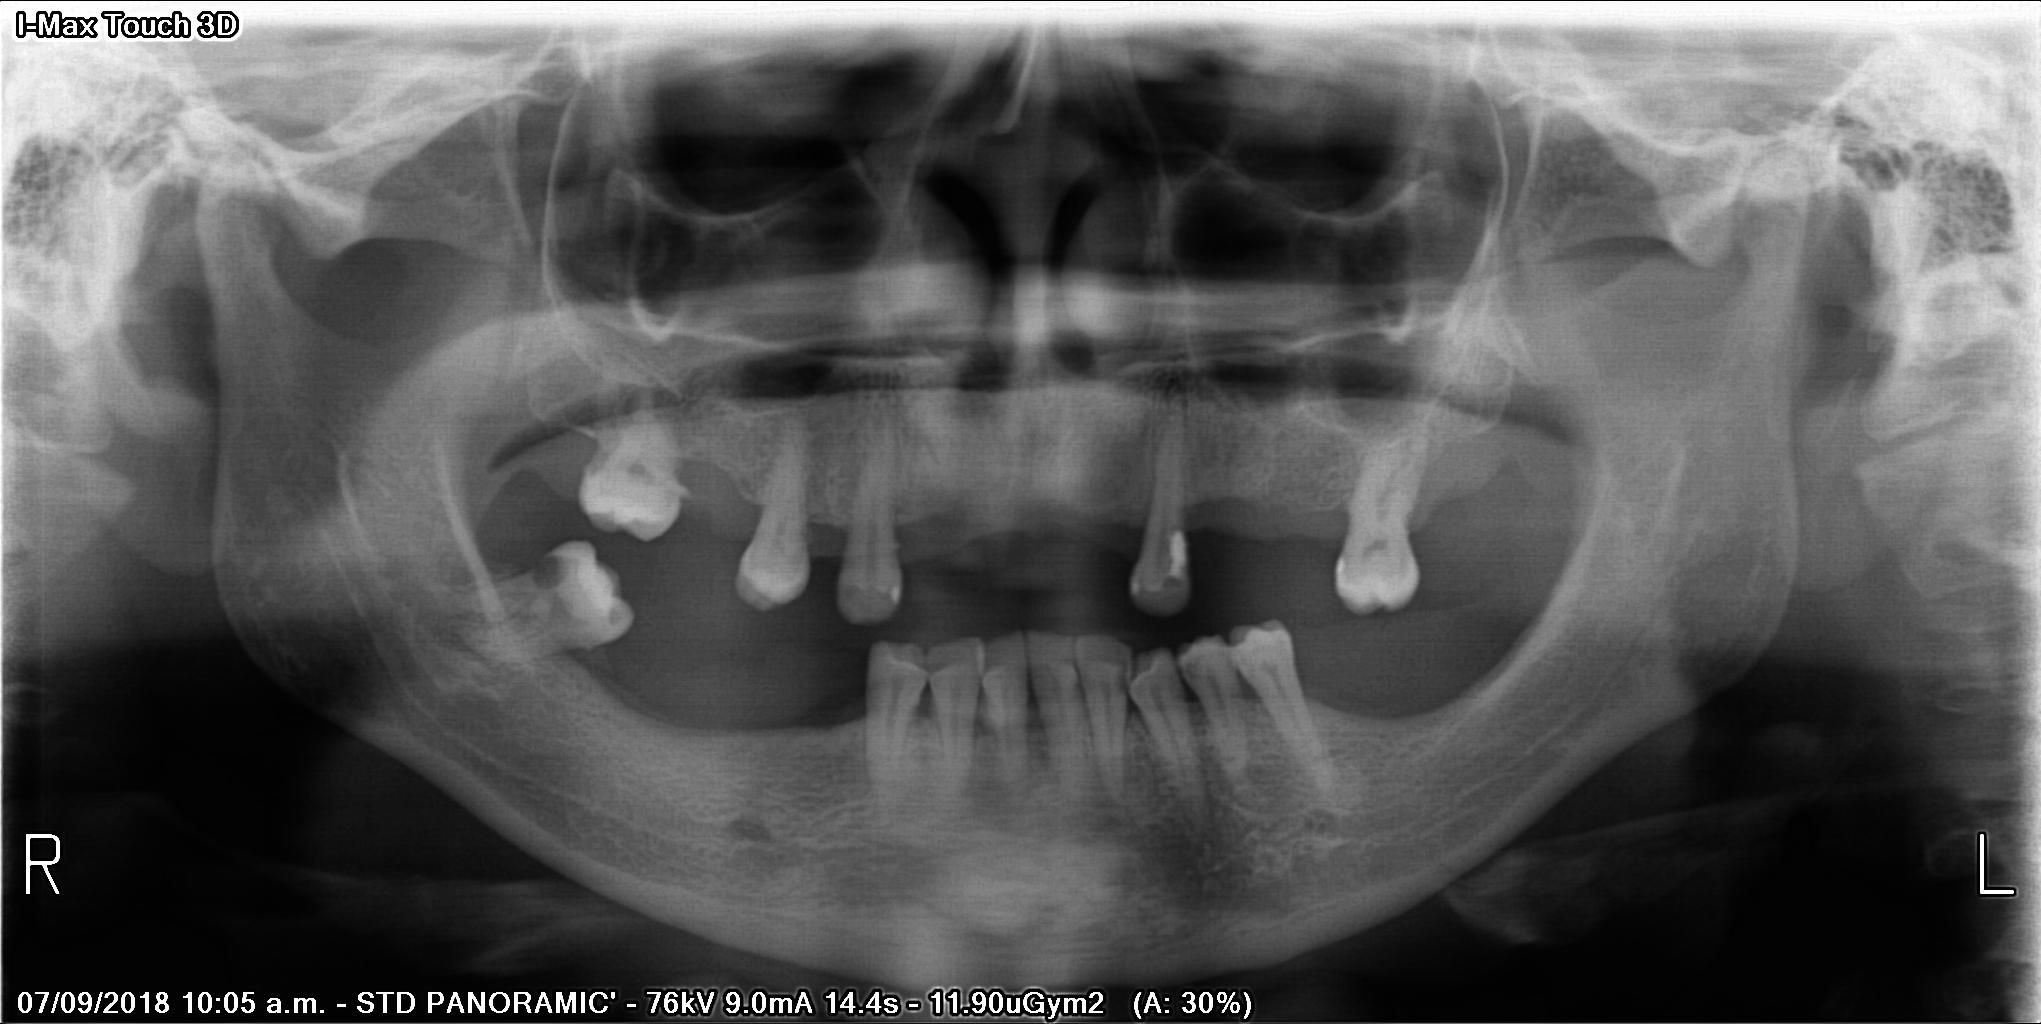Çürük: (1168, 530, 1200, 588)
Çürük Bölgesi: (526, 555, 576, 596), (1164, 573, 1188, 597)
